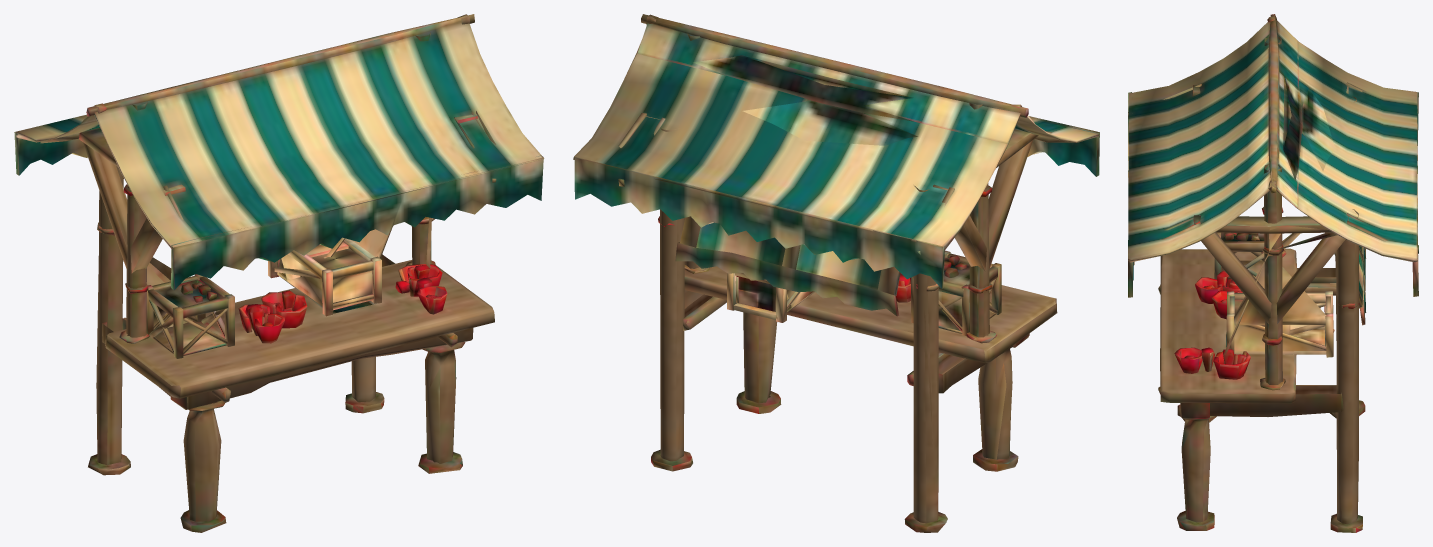
The model's file is market-stall.lod1.glb.
3 renders of one model, left to right at view 1: azimuth 30°, elevation 25°; view 2: azimuth 150°, elevation 25°; view 3: azimuth 270°, elevation 25°, orthographic. The views are drawn at different scales.
Size of the model in its own units: 2.6 by 2.6 by 1.85.
1 material, 1 textured.
